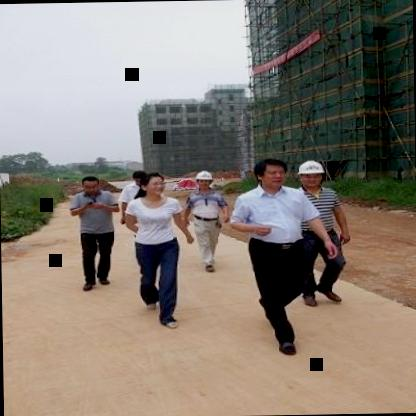head: (251, 157, 289, 190), (140, 170, 168, 196), (75, 173, 101, 196)
helmet: (298, 155, 332, 191), (192, 170, 217, 192)
